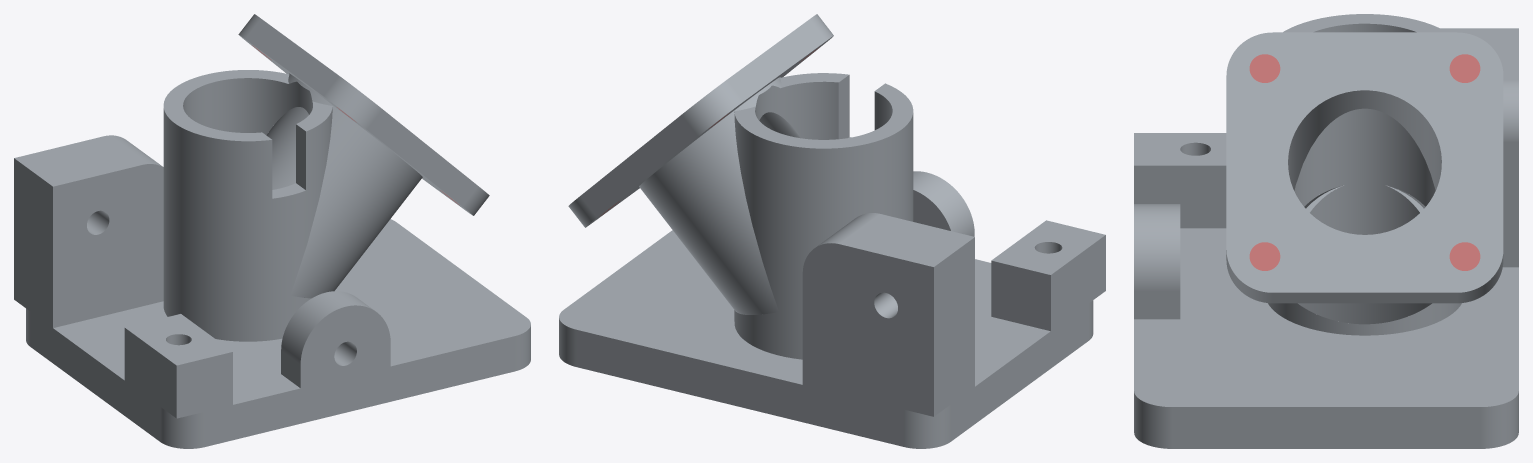
Rendered from step_15.glb.
3 renders of one model, left to right at view 1: azimuth 30°, elevation 25°; view 2: azimuth 150°, elevation 25°; view 3: azimuth 270°, elevation 25°, orthographic. The views are drawn at different scales.
Parts seen in each view (by area): view 1: part__tube bracket; view 2: part__tube bracket; view 3: part__tube bracket, removed__tube bracket.
Part boxes in pixels (x1=…): part__tube bracket: x1=14, y1=14, x2=530, y2=448; part__tube bracket: x1=559, y1=14, x2=1105, y2=448; part__tube bracket: x1=1134, y1=14, x2=1518, y2=448; removed__tube bracket: x1=1249, y1=54, x2=1480, y2=270.
Size of the model in its own units: 65 by 47.73 by 50.
